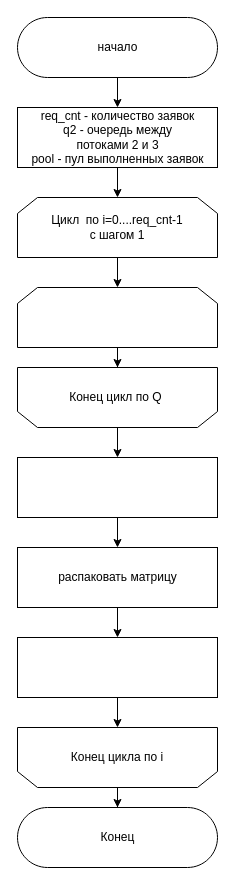
This 235x885 diagram has some shape labels left out. The shapes that lost their labels are listed below. From the top down, each one's centre as x and y in pixels, then its label:
At point (117, 317): "Цикл по Q пока очередь q2 пуста".
At point (117, 487): "обеспечить монопольный доступ к очереди q2 и считать заявку".
At point (117, 667): "добавить заявку в pool".
